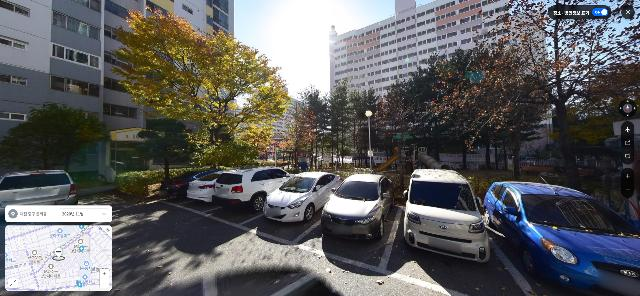other: (474, 0, 640, 191), (109, 7, 292, 168), (406, 0, 549, 180), (0, 101, 108, 171), (369, 80, 422, 193), (132, 116, 195, 181), (324, 79, 362, 168), (291, 84, 328, 169)
